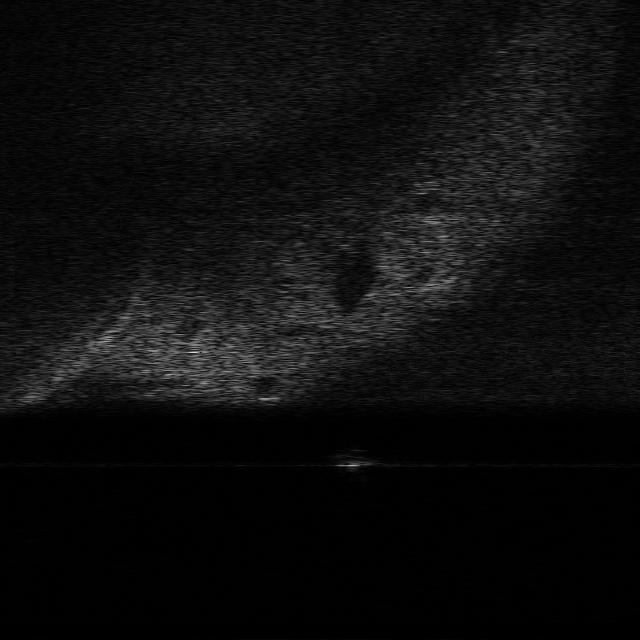cube: (332, 450, 373, 470)
